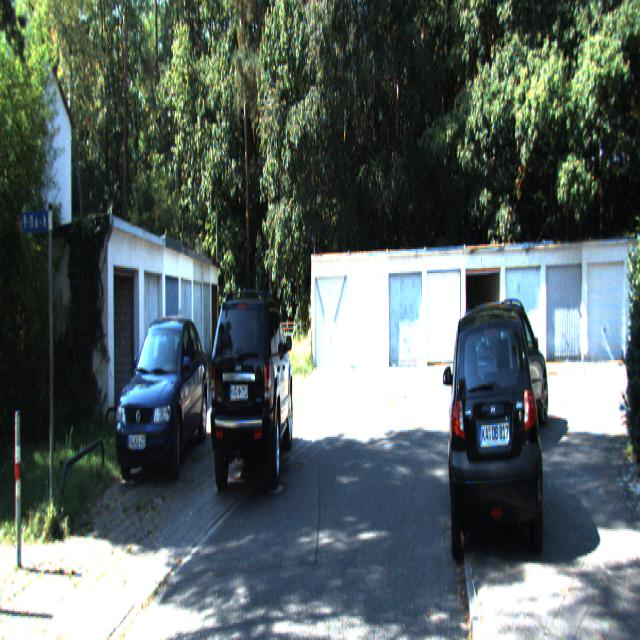Car: (446, 302, 545, 572), (208, 288, 294, 490), (114, 316, 209, 488), (457, 296, 547, 460)
